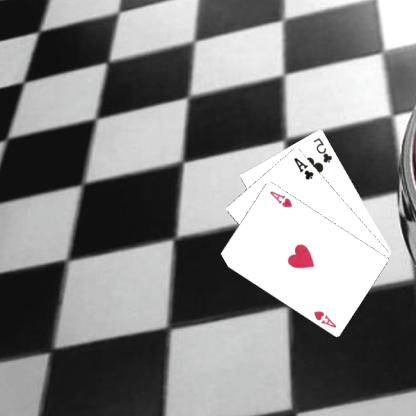5C: (312, 134, 336, 164)
AC: (292, 154, 317, 181)
AH: (268, 187, 296, 208), (313, 308, 340, 329)
